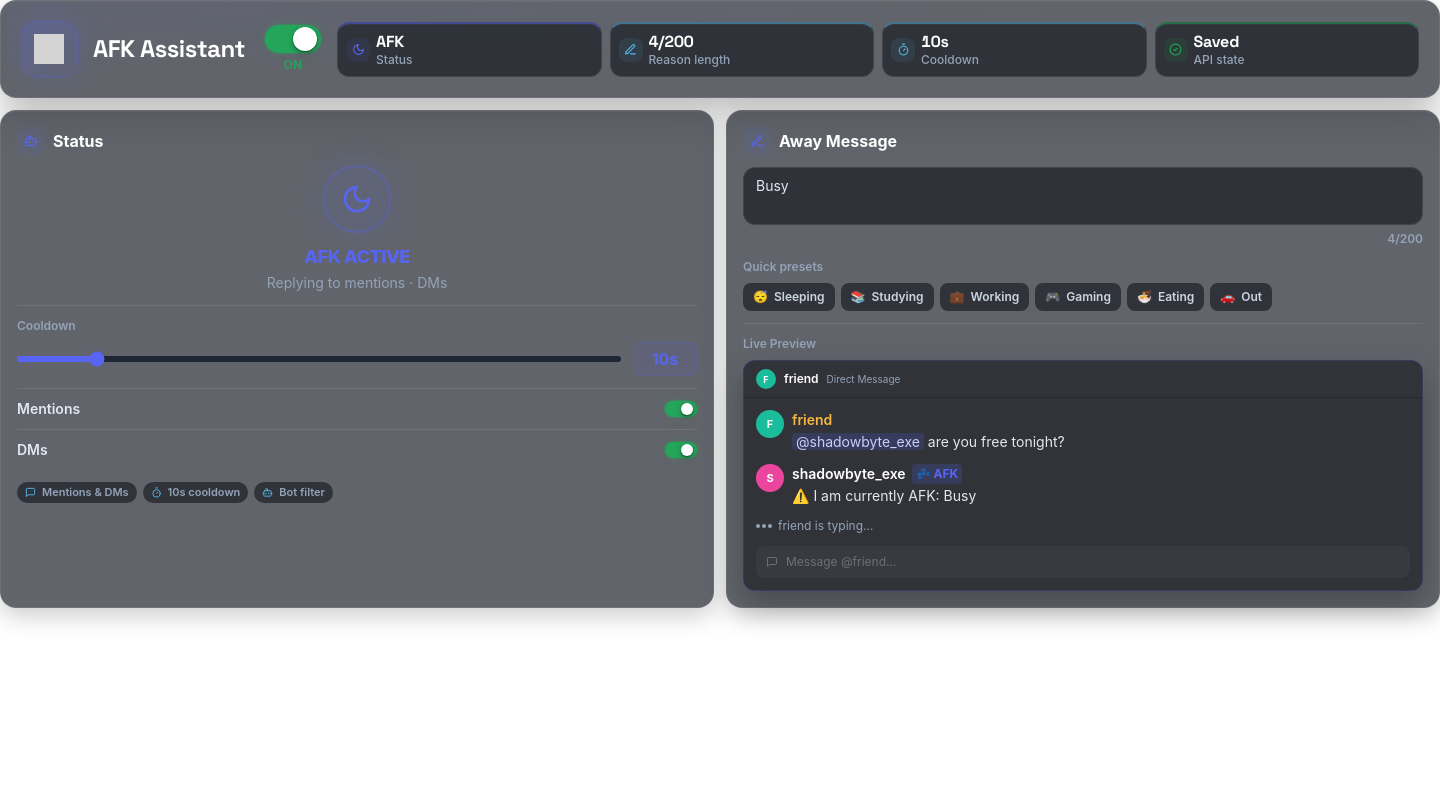
Test: AFKFeature toggle autosave › autosaves the toggle off after the debounce
Later steps or results of the test are not shown.
Check: the text box showing "Busy" is shown, box [743,167,1423,225]
Click the switch named "AFK master toggle".
click(293, 39)  # box [265,25,321,53]
Wait 600 ms
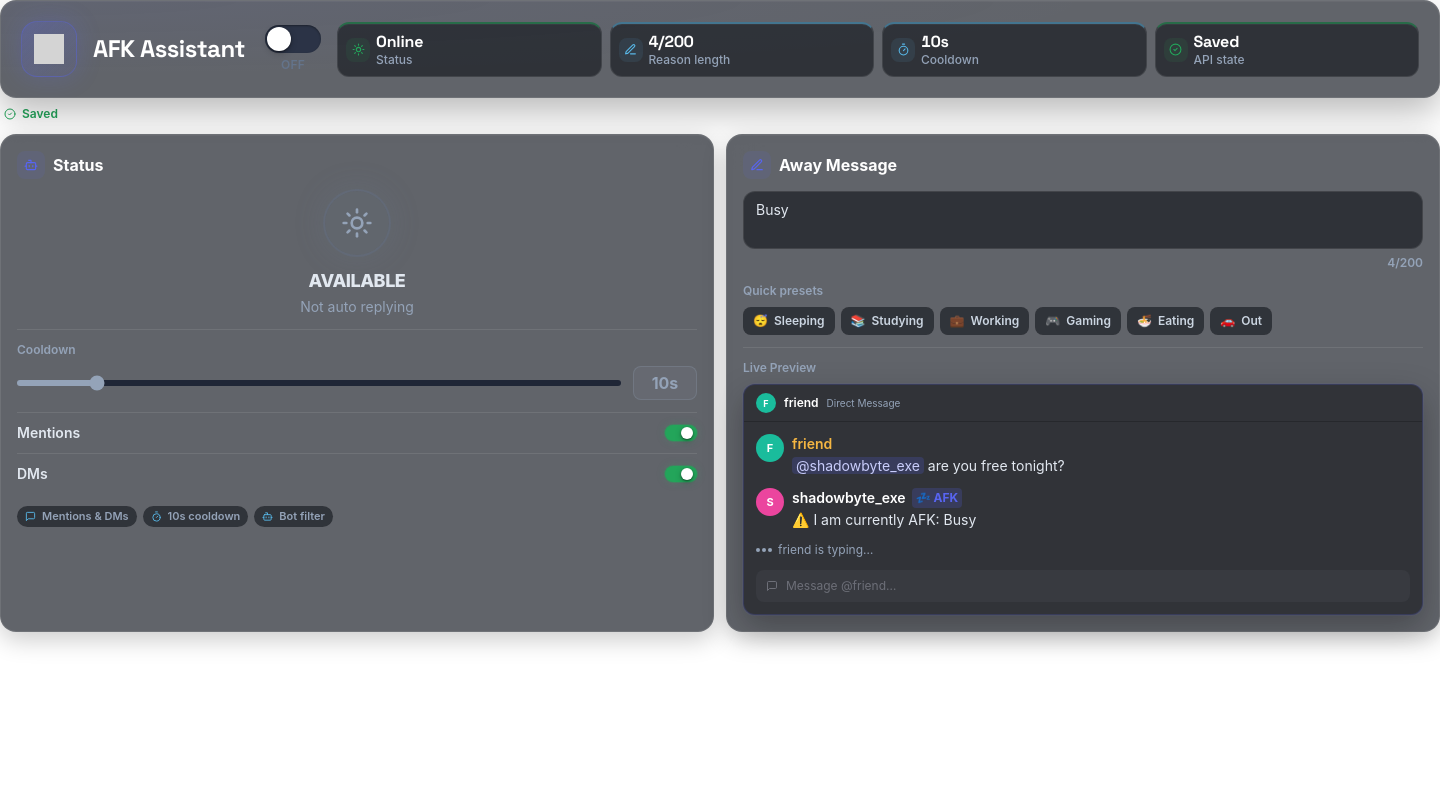
Check: the message with test id "autosave-status" reads "Saved", box [22,106,58,121]
